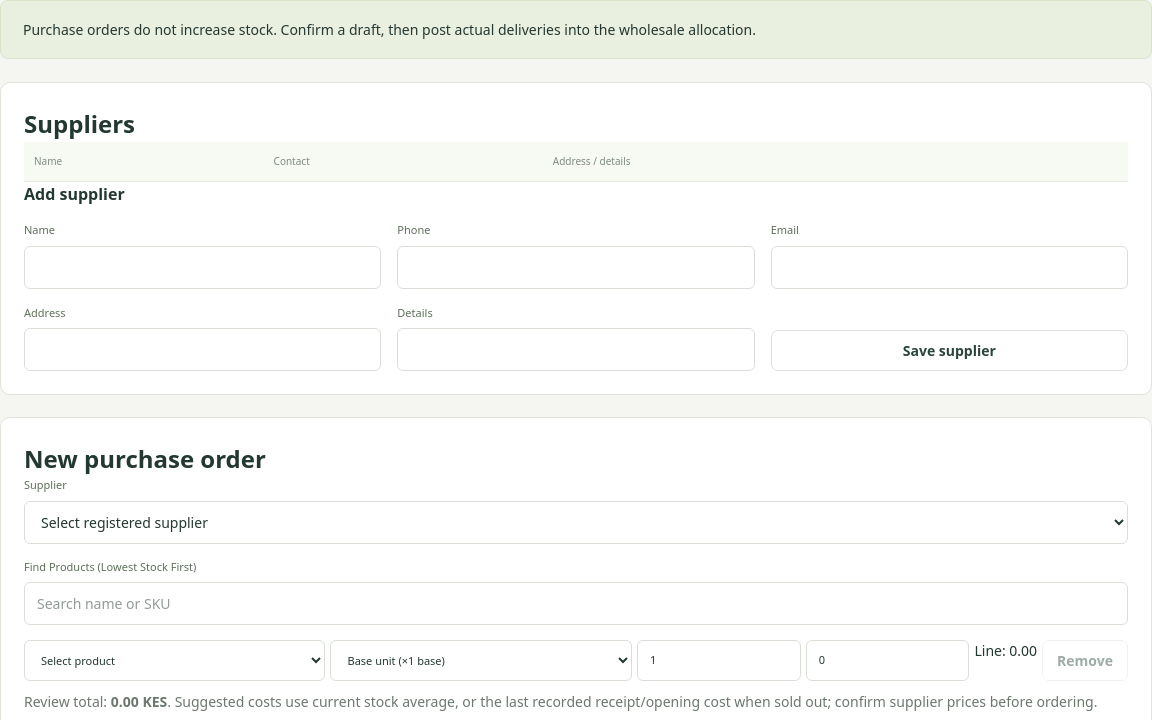
Test: derives purchase costs and preserves an edited quote when converting units
This screenshot has width=1152, height=720.
Select "Sugar · 24 kg" in the dropdown named "Product 1" at (175,660), box top-left (24, 640), bottom-right (326, 681)
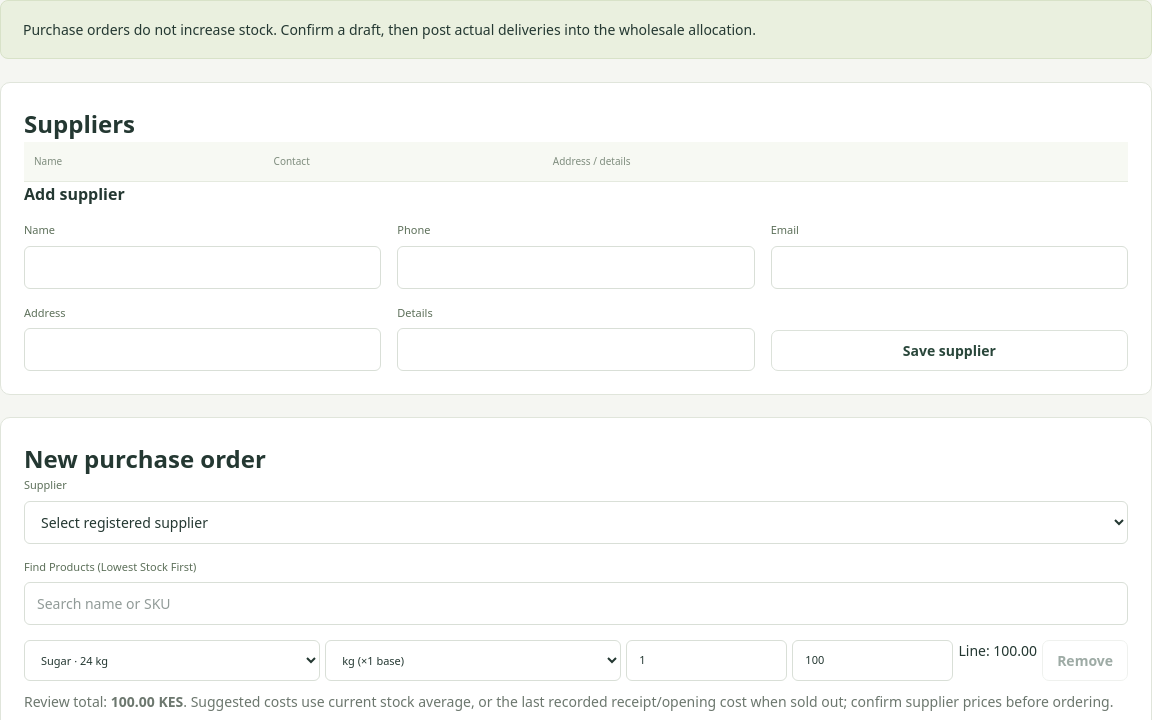
Expected: the number field named "Cost per selected unit 1" holds "100", top-left (792, 640), bottom-right (954, 681)
Select "Pack (×12 base)" in the dropdown named "Unit 1" at (473,660), box top-left (325, 640), bottom-right (621, 681)
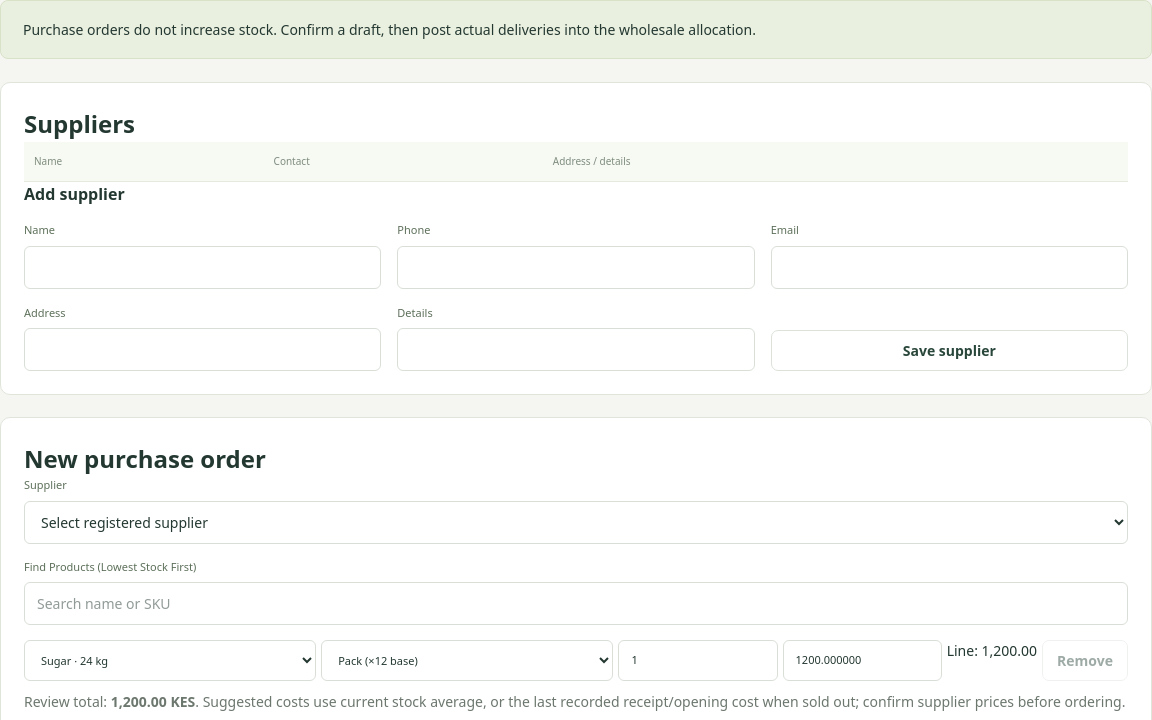
Expected: the number field named "Cost per selected unit 1" holds "1200", top-left (782, 640), bottom-right (942, 681)
Replace the text in the number field named "Quantity 1" with "5" at (698,660), box top-left (618, 640), bottom-right (778, 681)
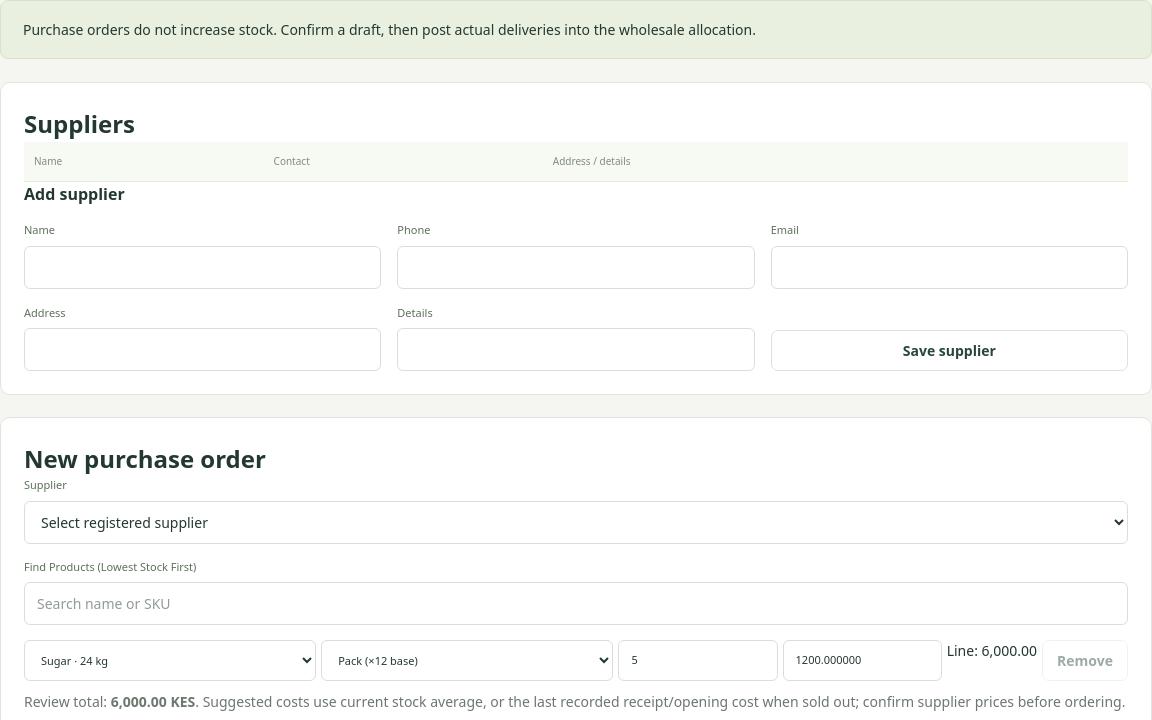
Expected: the text "Line: 6,000.00" is shown, top-left (947, 641), bottom-right (1037, 660)
Replace the text in the number field named "Cost per selected unit 1" with "600" at (862,660), box top-left (782, 640), bottom-right (942, 681)
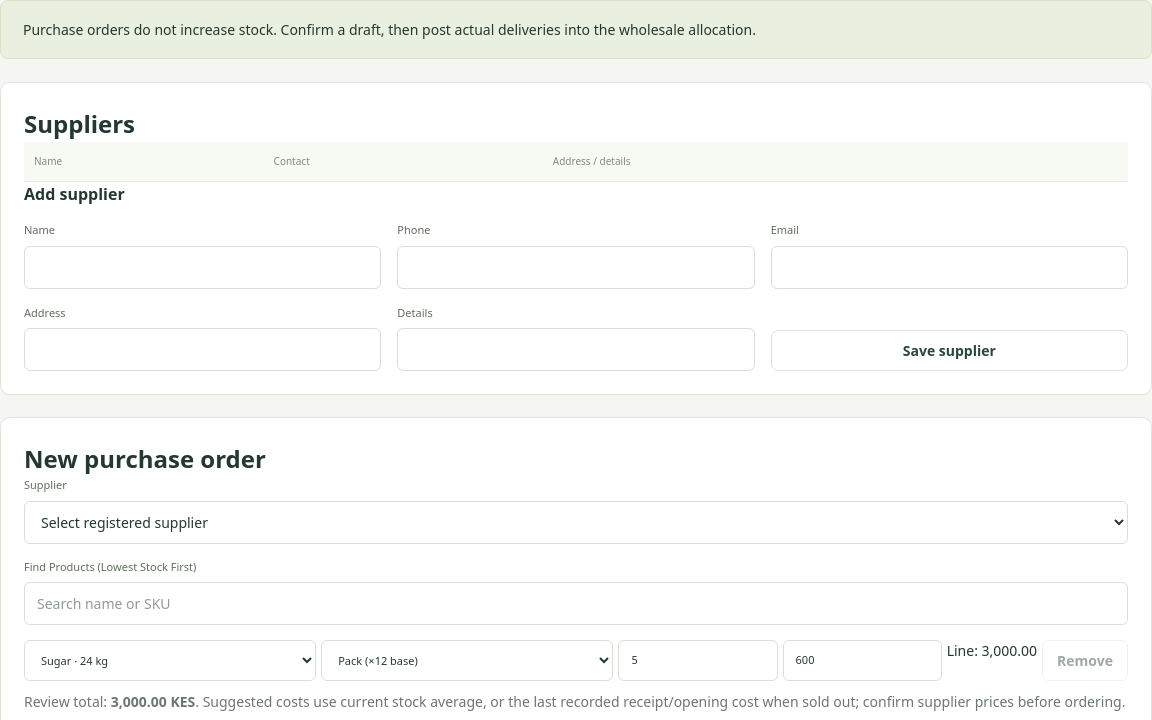
Select "kg (×1 base)" in the dropdown named "Unit 1" at (467,660), box top-left (321, 640), bottom-right (613, 681)
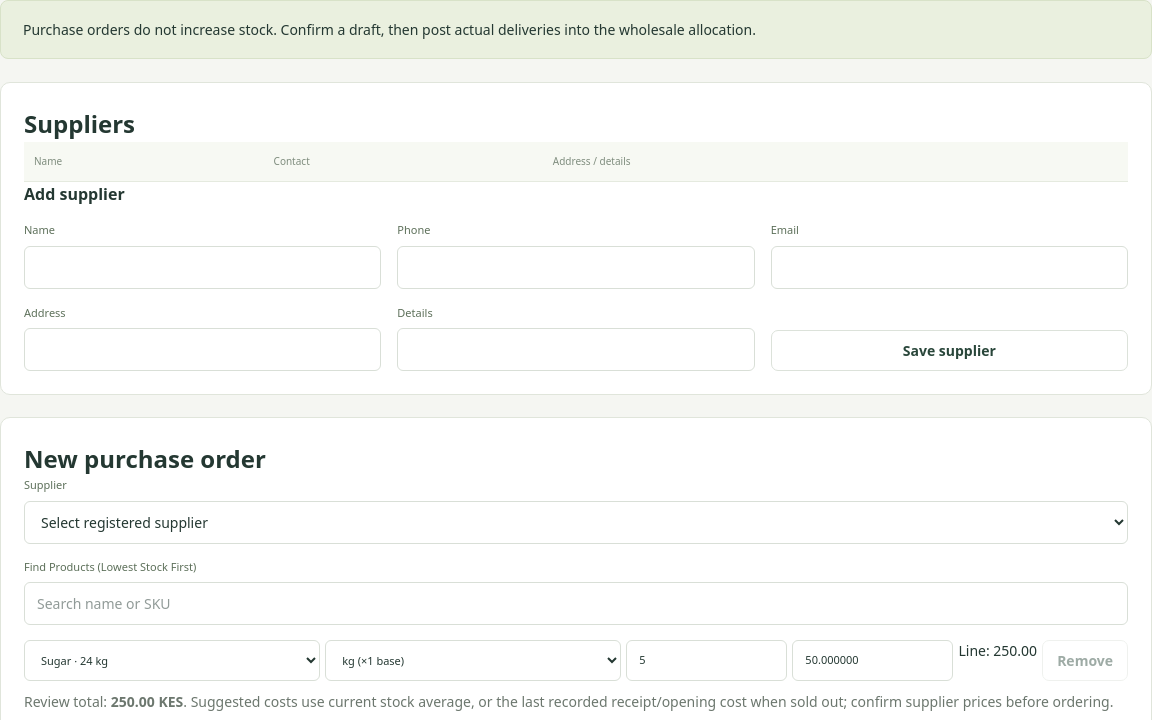
Expected: the number field named "Cost per selected unit 1" holds "50", top-left (792, 640), bottom-right (954, 681)
Expected: the text "Line: 250.00" is shown, top-left (958, 641), bottom-right (1037, 660)
